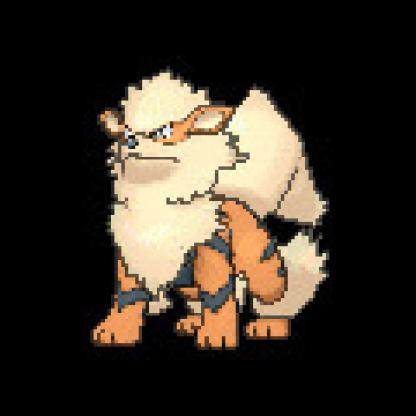Arcanine: (81, 56, 324, 371)
